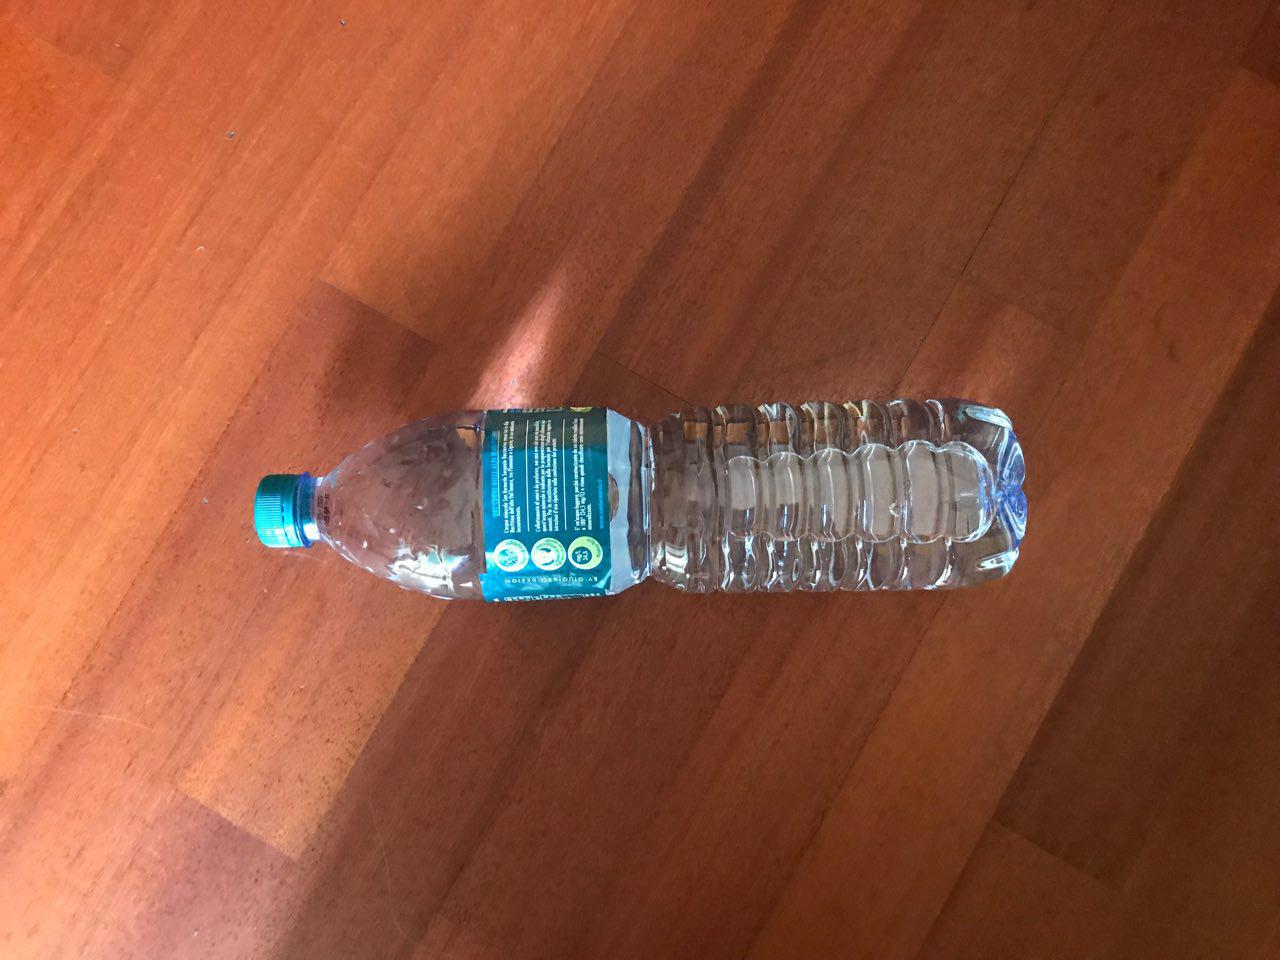san_bernardo: (252, 395, 1030, 605)
